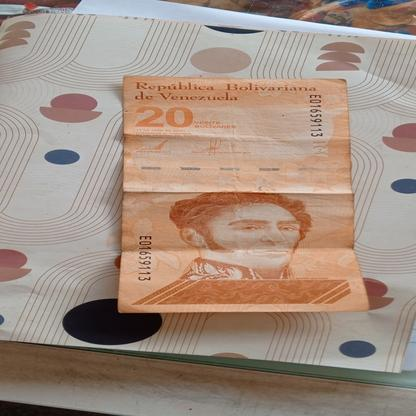vef_front: (46, 102, 298, 341)
